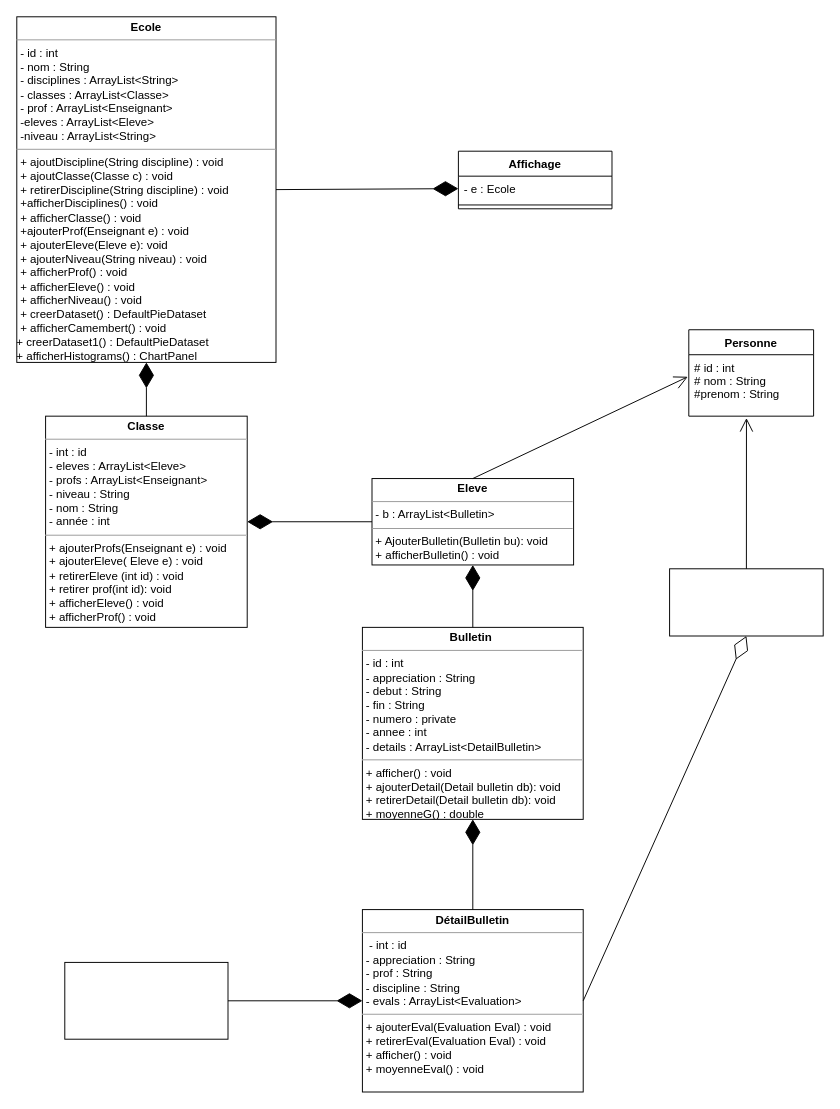
This 840x1109 diagram has some shape labels left out. The centre of each missing label's shape, as x and y in pixels:
Enseignant - discipline : String: point 746,602
Evaluation - id : int - note : float - appreciation : String: point 146,1000
